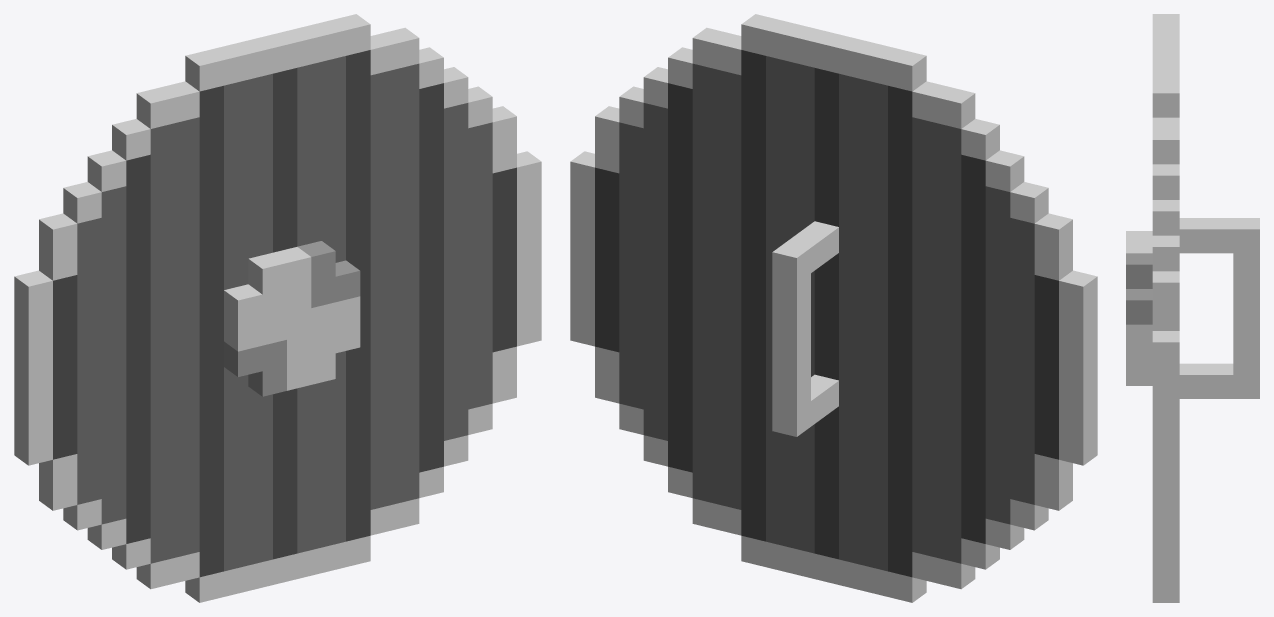
The model's file is weaponsshields-12.obj.
3 renders of one model, left to right at view 1: azimuth 30°, elevation 25°; view 2: azimuth 150°, elevation 25°; view 3: azimuth 270°, elevation 25°, orthographic. The views are drawn at different scales.
Visible parts, largest first — view 1: weaponsshields-12; view 2: weaponsshields-12; view 3: weaponsshields-12.
Part boxes in pixels (box(x1,y1,x2,y2)): weaponsshields-12: box(14, 14, 541, 602); weaponsshields-12: box(570, 14, 1097, 602); weaponsshields-12: box(1126, 14, 1259, 602).
Bounding box in the file's own units: 21 × 21 × 5.
Materials: 1 (1 with a texture image).
